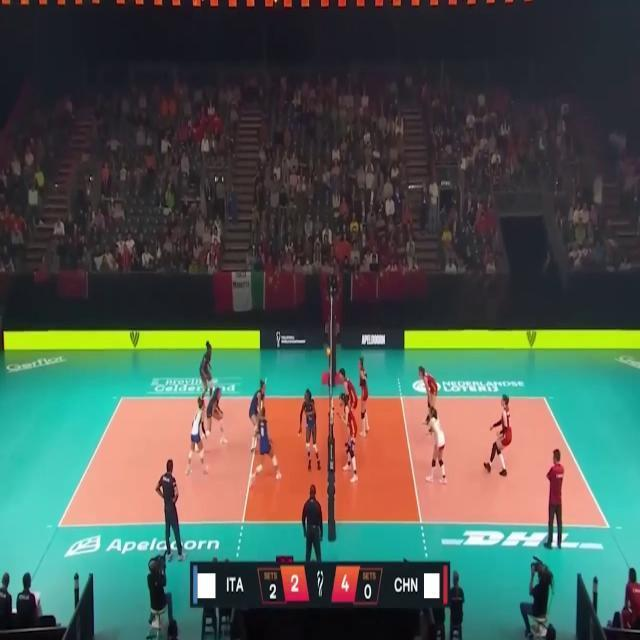volleyball: (325, 346, 330, 355)
